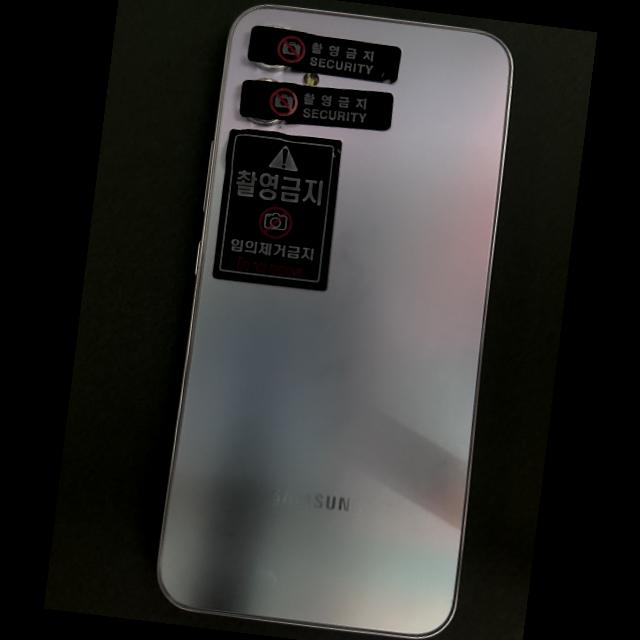lens: (255, 62, 290, 71), (249, 118, 282, 126)
phone: (158, 6, 512, 636)
sticker: (213, 130, 341, 290), (249, 26, 401, 82), (240, 80, 393, 130)
